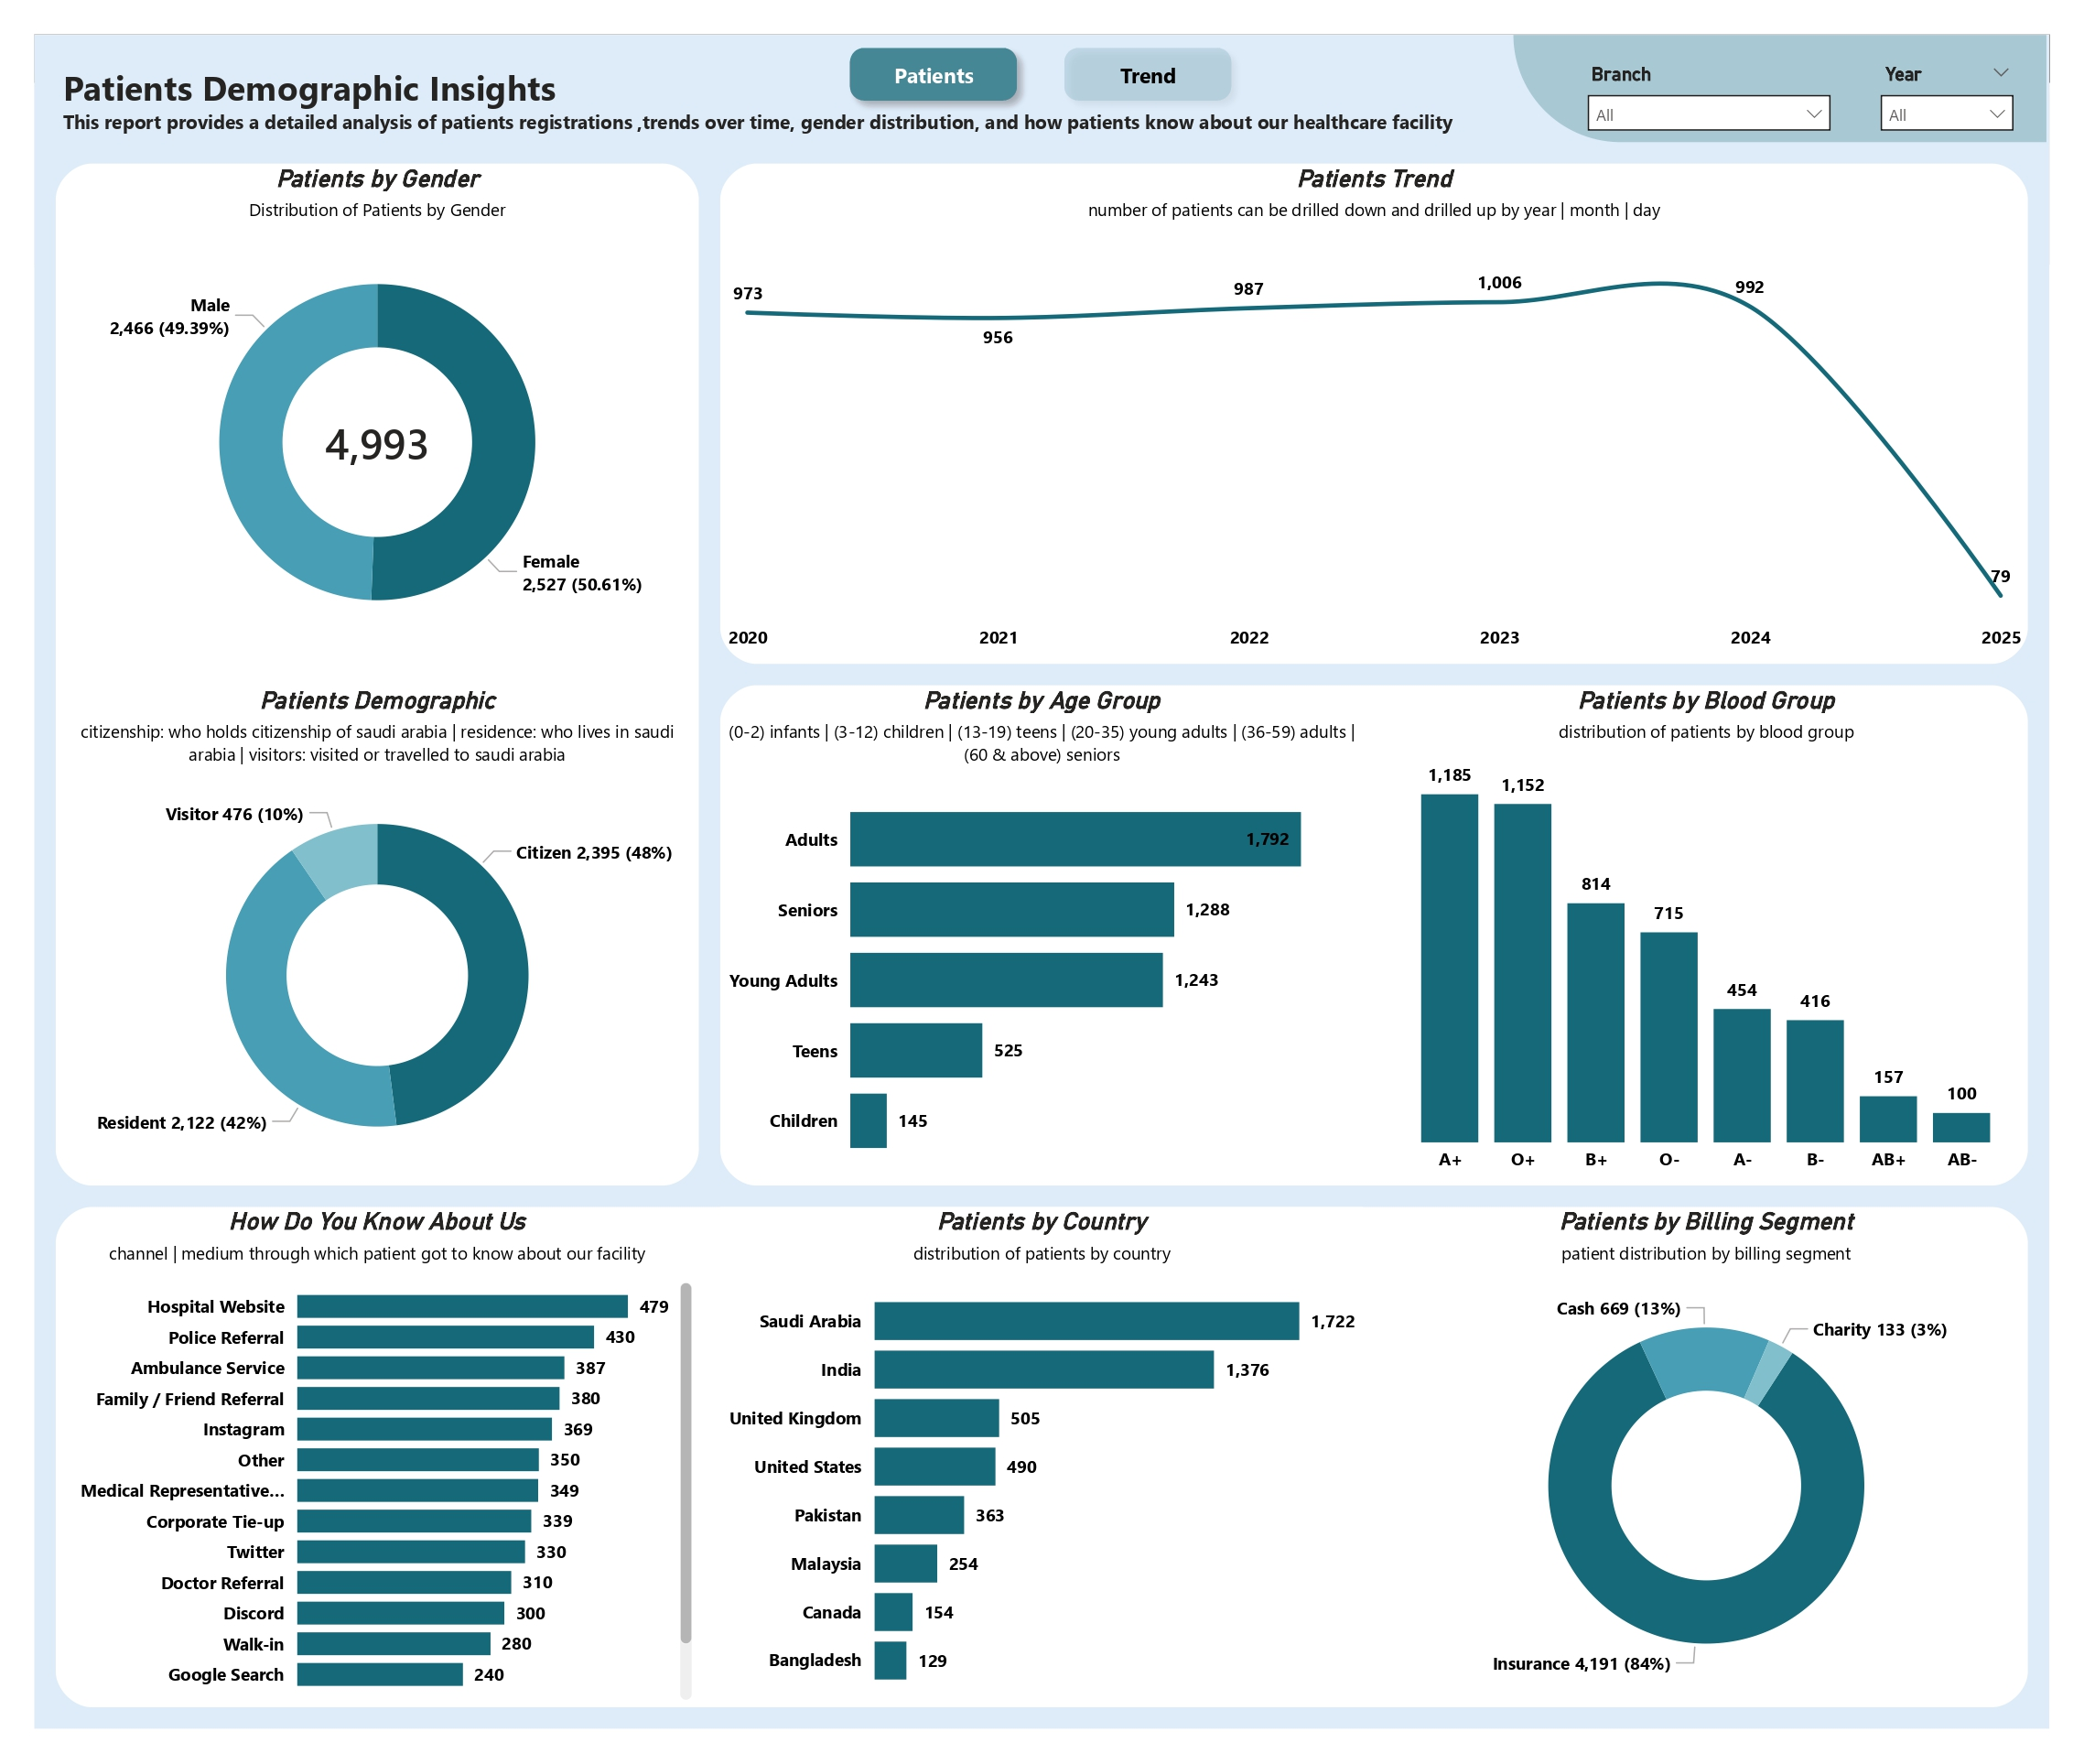

What the dashboard file says about the page in this screenshot:
{"tool":"powerbi","page":{"name":"Patients","canvas":[1410,1185],"ordinal":0},"visuals":[{"type":"actionButton","box":[562,0,135,55],"z":0,"group":"g3"},{"type":"slicer","fields":{"Values":["DimDate.Year"]},"box":[1282,15,113,60],"z":0,"group":"g2"},{"type":"donutChart","title":"Patients by Gender","fields":{"Category":["Patients.Gender"],"Y":["_Measures.Total Patients"]},"box":[15,90,450,350],"z":0,"group":"g1"},{"type":"shape","box":[15,90,450,715],"z":0},{"type":"actionButton","box":[712,0,135,55],"z":1000,"group":"g3"},{"type":"slicer","fields":{"Values":["Branches.BranchNameEn"]},"box":[1077,15,190,60],"z":1000,"group":"g2"},{"type":"group","id":"g1","title":"Group 2","box":[15,90,450,350],"z":1000},{"type":"cardVisual","fields":{"Data":["_Measures.Total Patients"]},"box":[173,246,134,75],"z":1000,"group":"g1"},{"type":"donutChart","title":"Patients Demographic","fields":{"Y":["_Measures.Total Patients"],"Category":["Patients.ResidenceTypeID"]},"box":[15,455,450,350],"z":2000},{"type":"shape","box":[15,820,1380,350],"z":3000},{"type":"shape","box":[1035,0,373,75],"z":4000,"group":"g4"},{"type":"barChart","title":"How Do You Know About Us","fields":{"Y":["_Measures.Total Patients"],"Category":["Source of Awareness Description.Descripton"]},"box":[15,820,450,350],"z":4000},{"type":"group","id":"g2","title":"Group 1","box":[1077,15,318,60],"z":5000,"group":"g4"},{"type":"shape","box":[480,455,915,350],"z":5000},{"type":"shape","box":[480,90,915,350],"z":6000},{"type":"columnChart","title":"Patients by Blood Group","fields":{"Y":["_Measures.Total Patients"],"Category":["Blood Group Description.Descripton"]},"box":[945,455,450,350],"z":7000},{"type":"textbox","box":[15,15,985,60],"z":8000},{"type":"barChart","title":"Patients by Country","fields":{"Y":["_Measures.Total Patients"],"Category":["Countries.CountryNameEnglish"]},"box":[480,820,450,350],"z":9000},{"type":"barChart","title":"Patients by Age Group","fields":{"Y":["_Measures.Total Patients"],"Category":["Patients.Age Group"]},"box":[480,455,450,350],"z":10000},{"type":"lineChart","title":"Patients Trend","fields":{"Y":["_Measures.Total Patients"],"Category":["DimDate.Year","DimDate.Quarter","DimDate.Month Name"]},"box":[480,90,915,350],"z":11000},{"type":"donutChart","title":"Patients by Billing Segment","fields":{"Y":["_Measures.Total Patients"],"Category":["Patients.BillingType"]},"box":[945,820,450,350],"z":12000},{"type":"group","id":"g3","title":"Group 1","box":[562,0,285,55],"z":13000},{"type":"group","id":"g4","title":"Group 3","box":[1035,0,373,75],"z":14000}]}

Visuals, with their boxes on the page's 1410x1185 design canvas (x1, y1, x2, y2). These are canvas units, not pixel positions in the 2084x1764 screenshot, which may show the page scaled, cropped or inside an application window:
actionButton: region(562, 0, 697, 55)
slicer - DimDate.Year: region(1282, 15, 1395, 75)
"Patients by Gender" donutChart: region(15, 90, 465, 440)
shape: region(15, 90, 465, 805)
actionButton: region(712, 0, 847, 55)
slicer - Branches.BranchNameEn: region(1077, 15, 1267, 75)
"Group 2" group: region(15, 90, 465, 440)
cardVisual - _Measures.Total Patients: region(173, 246, 307, 321)
"Patients Demographic" donutChart: region(15, 455, 465, 805)
shape: region(15, 820, 1395, 1170)
shape: region(1035, 0, 1408, 75)
"How Do You Know About Us" barChart: region(15, 820, 465, 1170)
"Group 1" group: region(1077, 15, 1395, 75)
shape: region(480, 455, 1395, 805)
shape: region(480, 90, 1395, 440)
"Patients by Blood Group" columnChart: region(945, 455, 1395, 805)
textbox: region(15, 15, 1000, 75)
"Patients by Country" barChart: region(480, 820, 930, 1170)
"Patients by Age Group" barChart: region(480, 455, 930, 805)
"Patients Trend" lineChart: region(480, 90, 1395, 440)
"Patients by Billing Segment" donutChart: region(945, 820, 1395, 1170)
"Group 1" group: region(562, 0, 847, 55)
"Group 3" group: region(1035, 0, 1408, 75)
